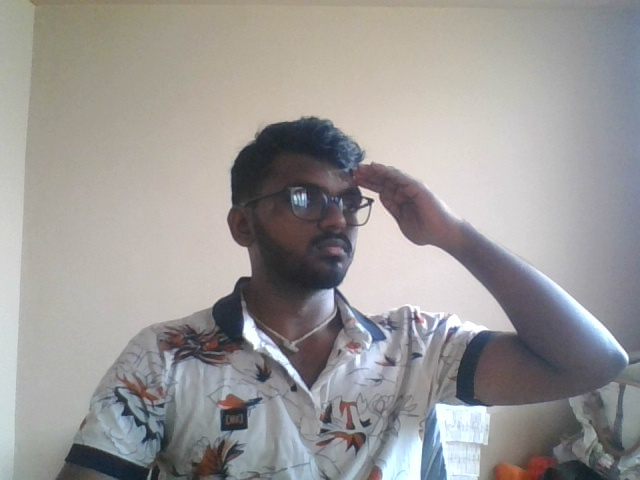Hello: (346, 159, 467, 294)
